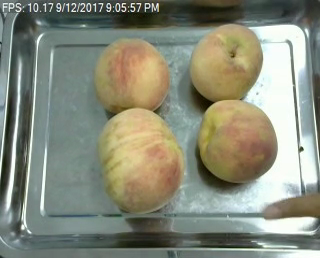Peach: (98, 108, 181, 215), (196, 100, 278, 185), (94, 36, 171, 115), (187, 22, 262, 102)
